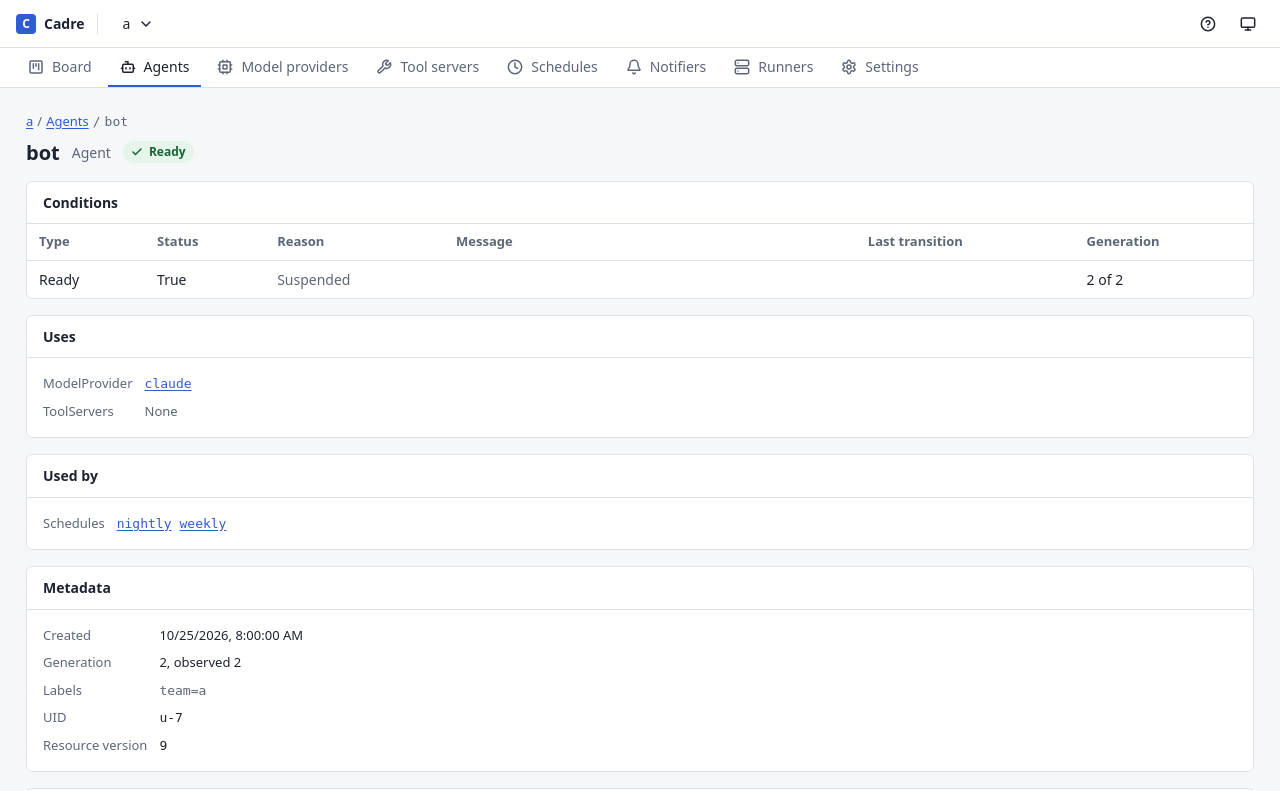
An Agent's Used by › links the Schedules whose tasks go to the agent, and only those, from one list read
Click the link "nightly": (144, 523) [117,514,172,533]
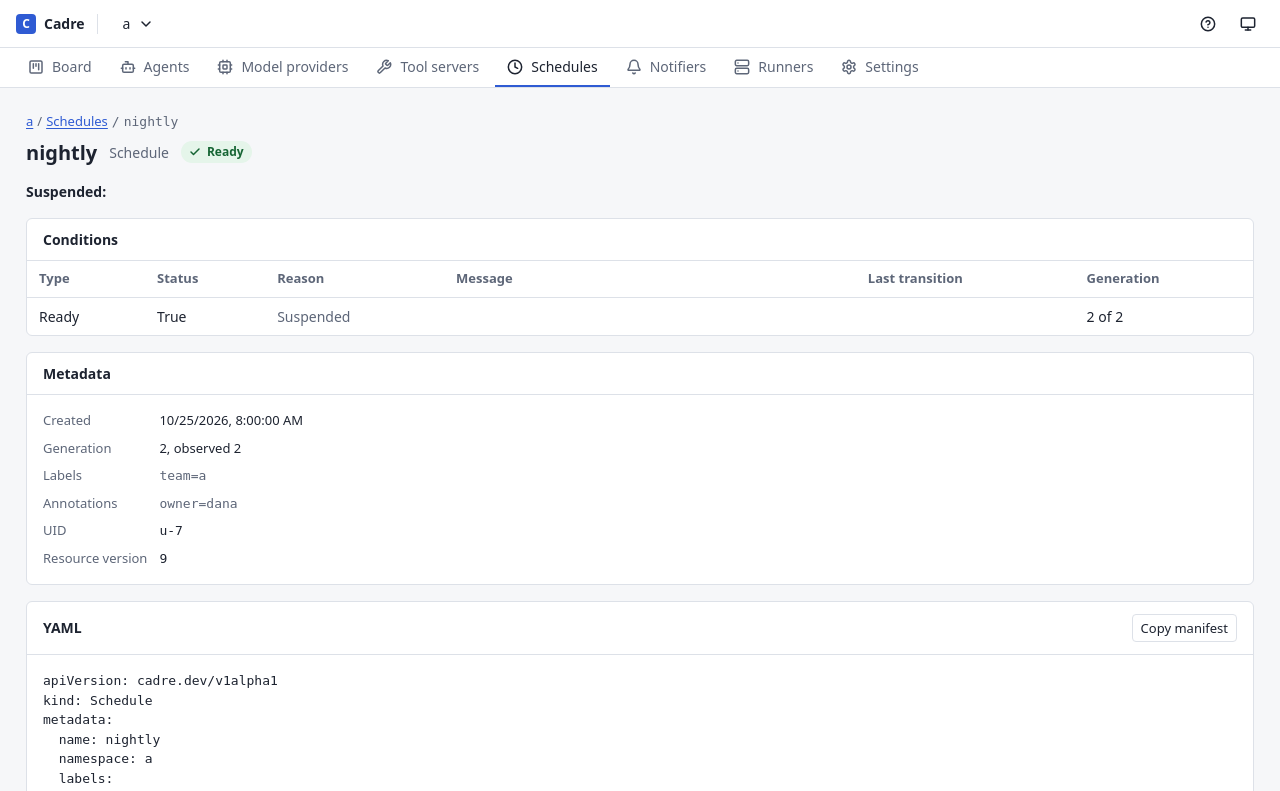
Check: the heading "nightly" is shown, box [26,140,97,164]
